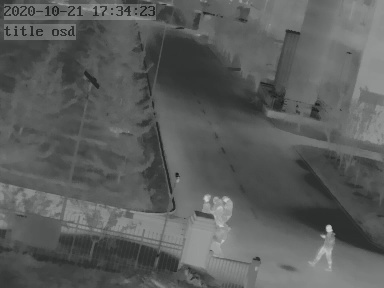person: (314, 224, 335, 269), (217, 196, 231, 242), (202, 192, 218, 215)
